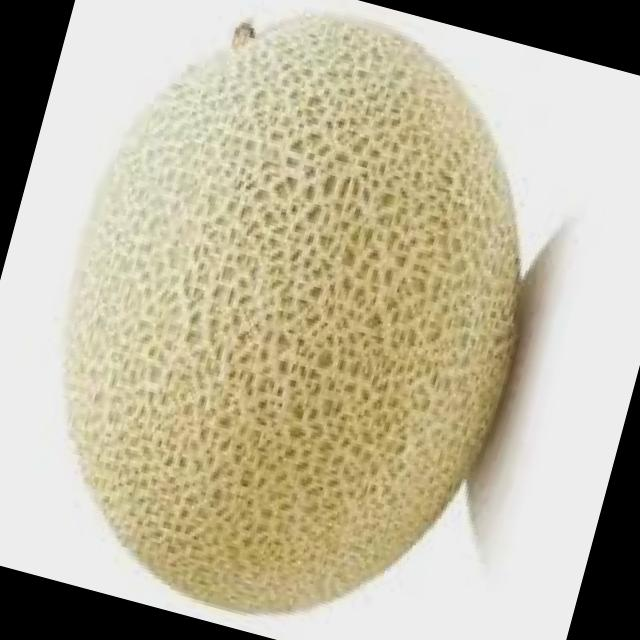cantaloupe: (0, 0, 587, 640)
